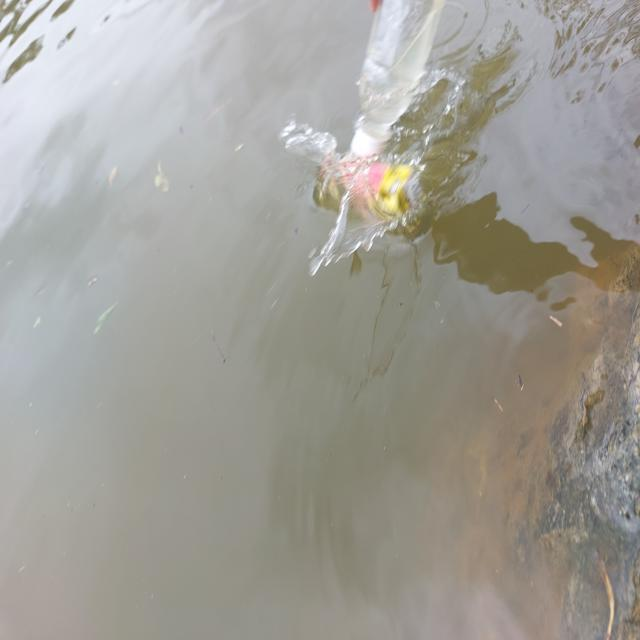paper: (314, 145, 427, 240)
waterbottle: (356, 0, 456, 168)
